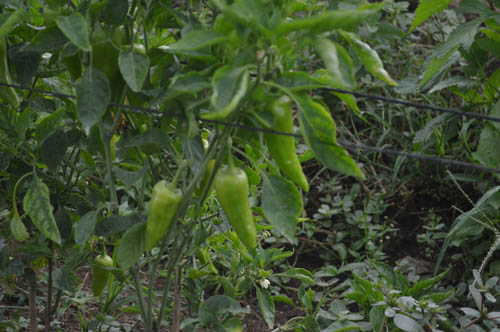ChiliPepper: (256, 97, 317, 197), (212, 165, 264, 261), (81, 21, 126, 115), (139, 176, 185, 254), (88, 254, 117, 301)
